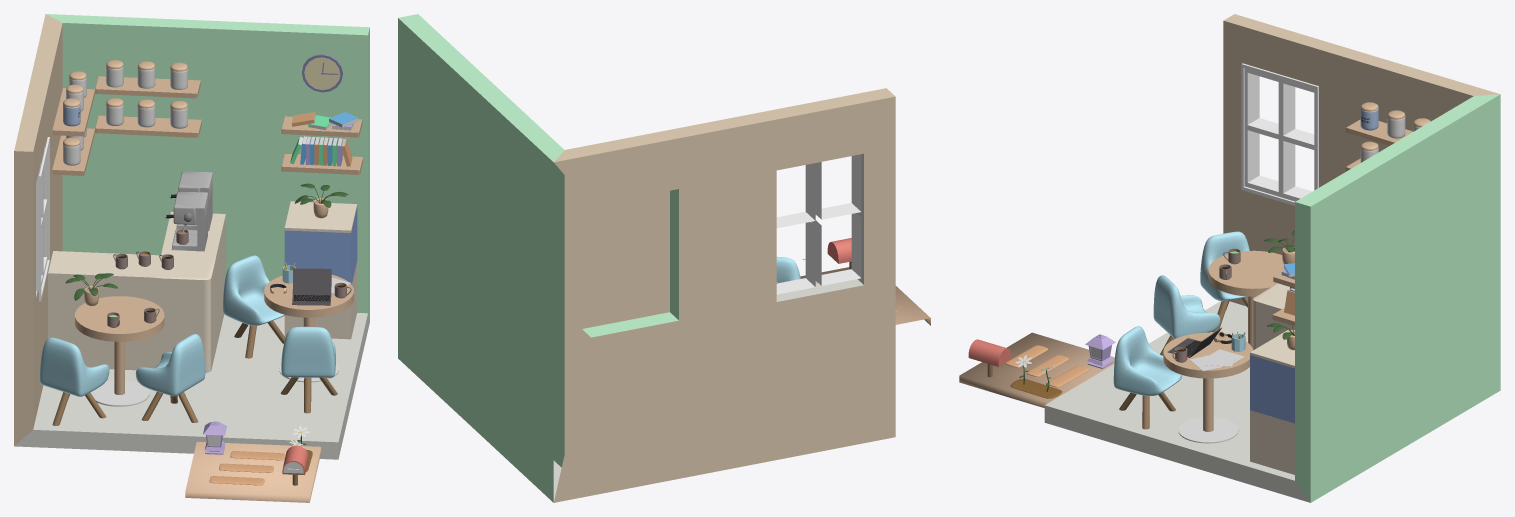
Rendered from cafe.glb.
3 renders of one model, left to right at view 1: azimuth 30°, elevation 25°; view 2: azimuth 150°, elevation 25°; view 3: azimuth 270°, elevation 25°, orthographic. The views are drawn at different scales.
Visible parts, largest first — view 1: roomcube, order place, roomcube.001, Circle, Cube.010, Cube.007, Cube.004, Cube.009, Cube.018, tank, Circle.002, Plane.010 (+26 smaller); view 2: roomcube, Plane.010, roomcube.001; view 3: roomcube, Plane.010, roomcube.001, Circle.002, Cube.009, Cube.018, Circle, Cube.007, tank, Cube.004, order place, Cylinder.030 (+2 smaller).
Part boxes in pixels (x1,y1,x2,y2): roomcube: [14, 14, 369, 459]; order place: [48, 211, 225, 372]; roomcube.001: [185, 441, 320, 502]; Circle: [75, 296, 164, 406]; Cube.010: [223, 255, 285, 358]; Cube.007: [135, 334, 205, 422]; Cube.004: [40, 337, 109, 425]; Cube.009: [280, 326, 337, 413]; Cube.018: [284, 201, 356, 339]; tank: [284, 207, 357, 284]; Circle.002: [264, 275, 353, 382]; Plane.010: [36, 137, 49, 301]; roomcube: [398, 14, 895, 502]; Plane.010: [776, 154, 861, 294]; roomcube.001: [800, 267, 930, 325]; roomcube: [1044, 14, 1500, 502]; Plane.010: [1241, 63, 1318, 205]; roomcube.001: [959, 332, 1114, 407]; Circle.002: [1163, 332, 1252, 443]; Cube.009: [1113, 326, 1182, 429]; Cube.018: [1250, 329, 1294, 474]; Circle: [1208, 250, 1284, 348]; Cube.007: [1153, 275, 1220, 355]; tank: [1250, 355, 1294, 423]; Cube.004: [1200, 231, 1249, 332]; order place: [1253, 283, 1294, 350]; Cylinder.030: [968, 339, 1011, 366].
Bounding box in the file's own units: 14.41 × 10.33 × 17.11.
